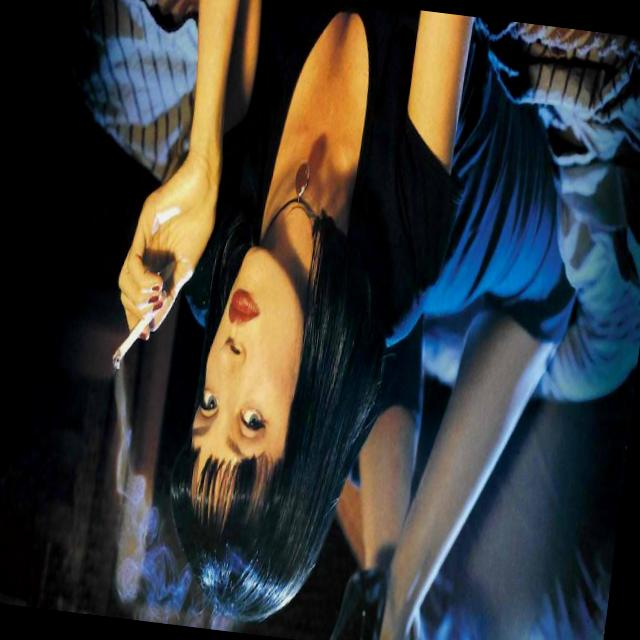cigarette: (107, 315, 144, 382)
